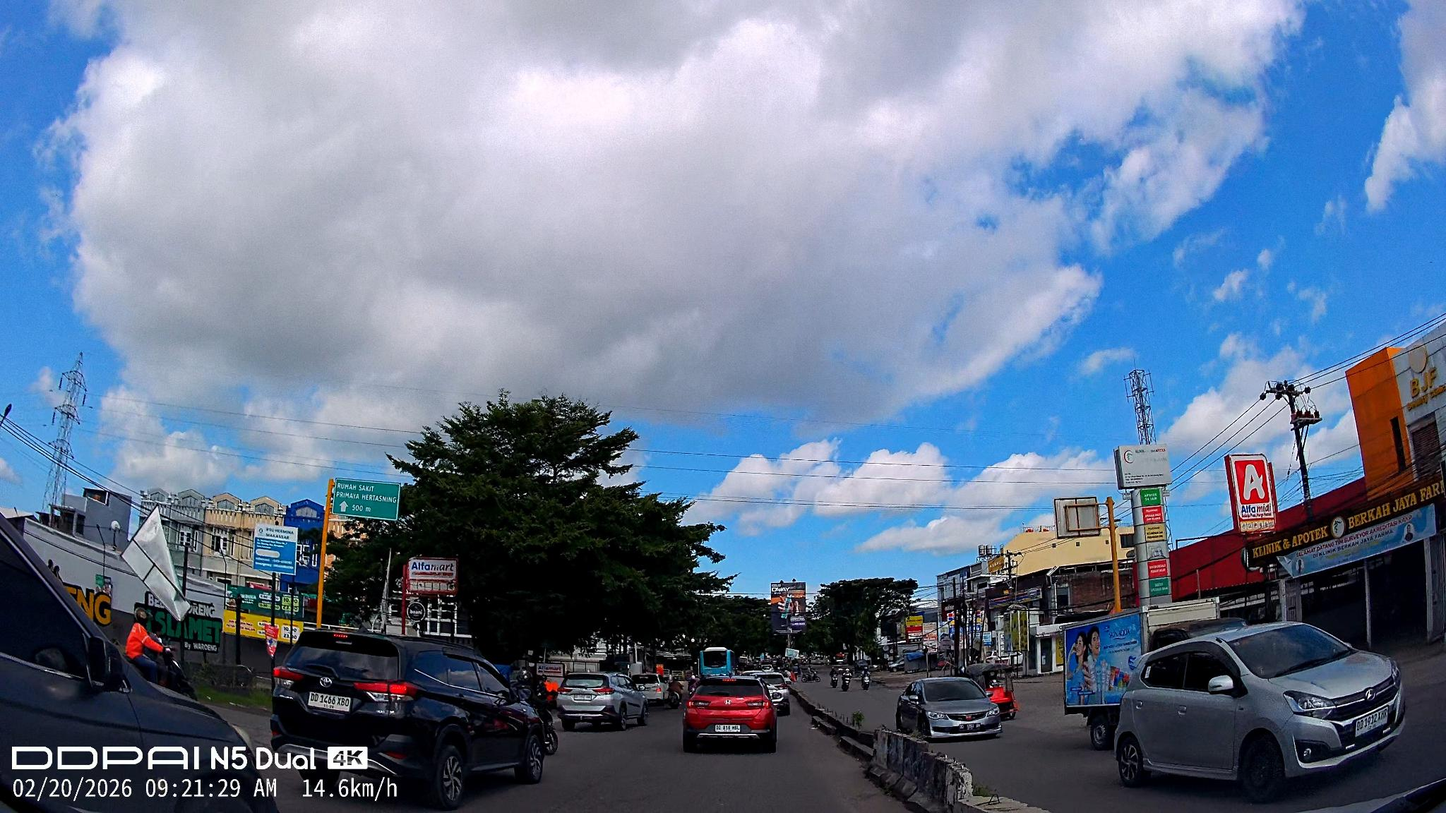rambu_teks: (332, 477, 401, 521)
